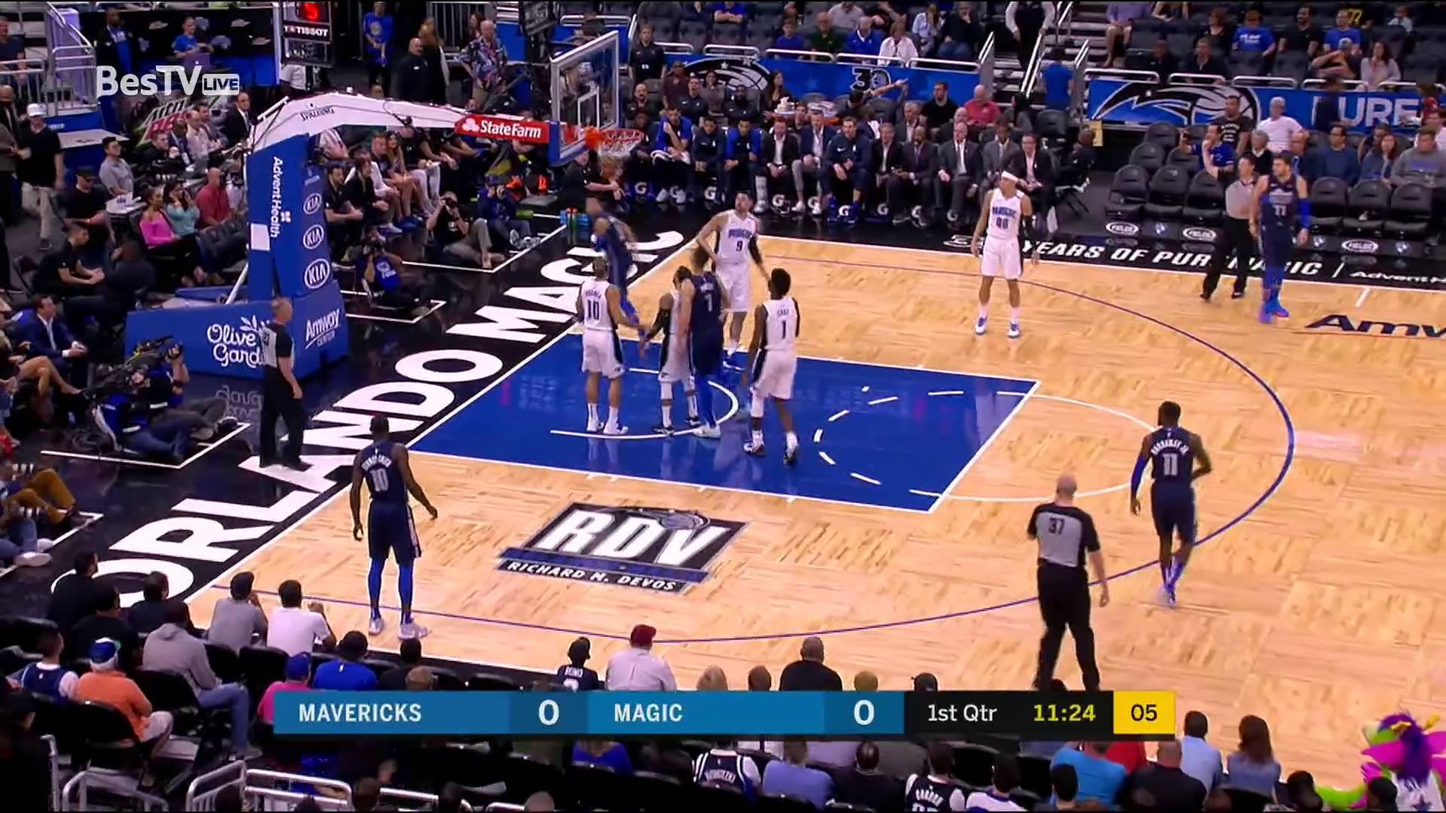basketball: (599, 157, 623, 178)
